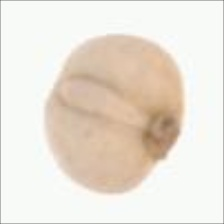L5: (54, 72, 150, 132), (142, 105, 182, 163)
L6: (38, 31, 188, 196)
